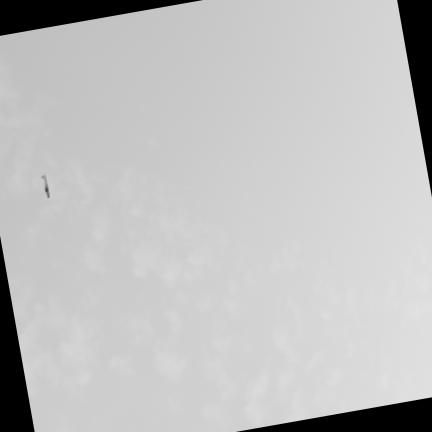Shahed: (40, 171, 50, 197)
